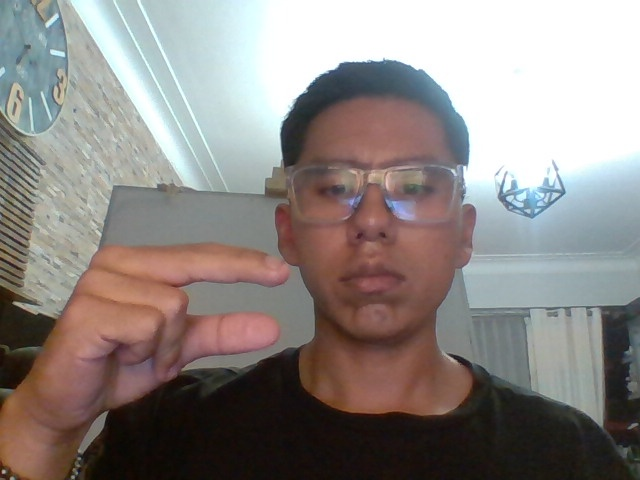No: (33, 243, 291, 427)
